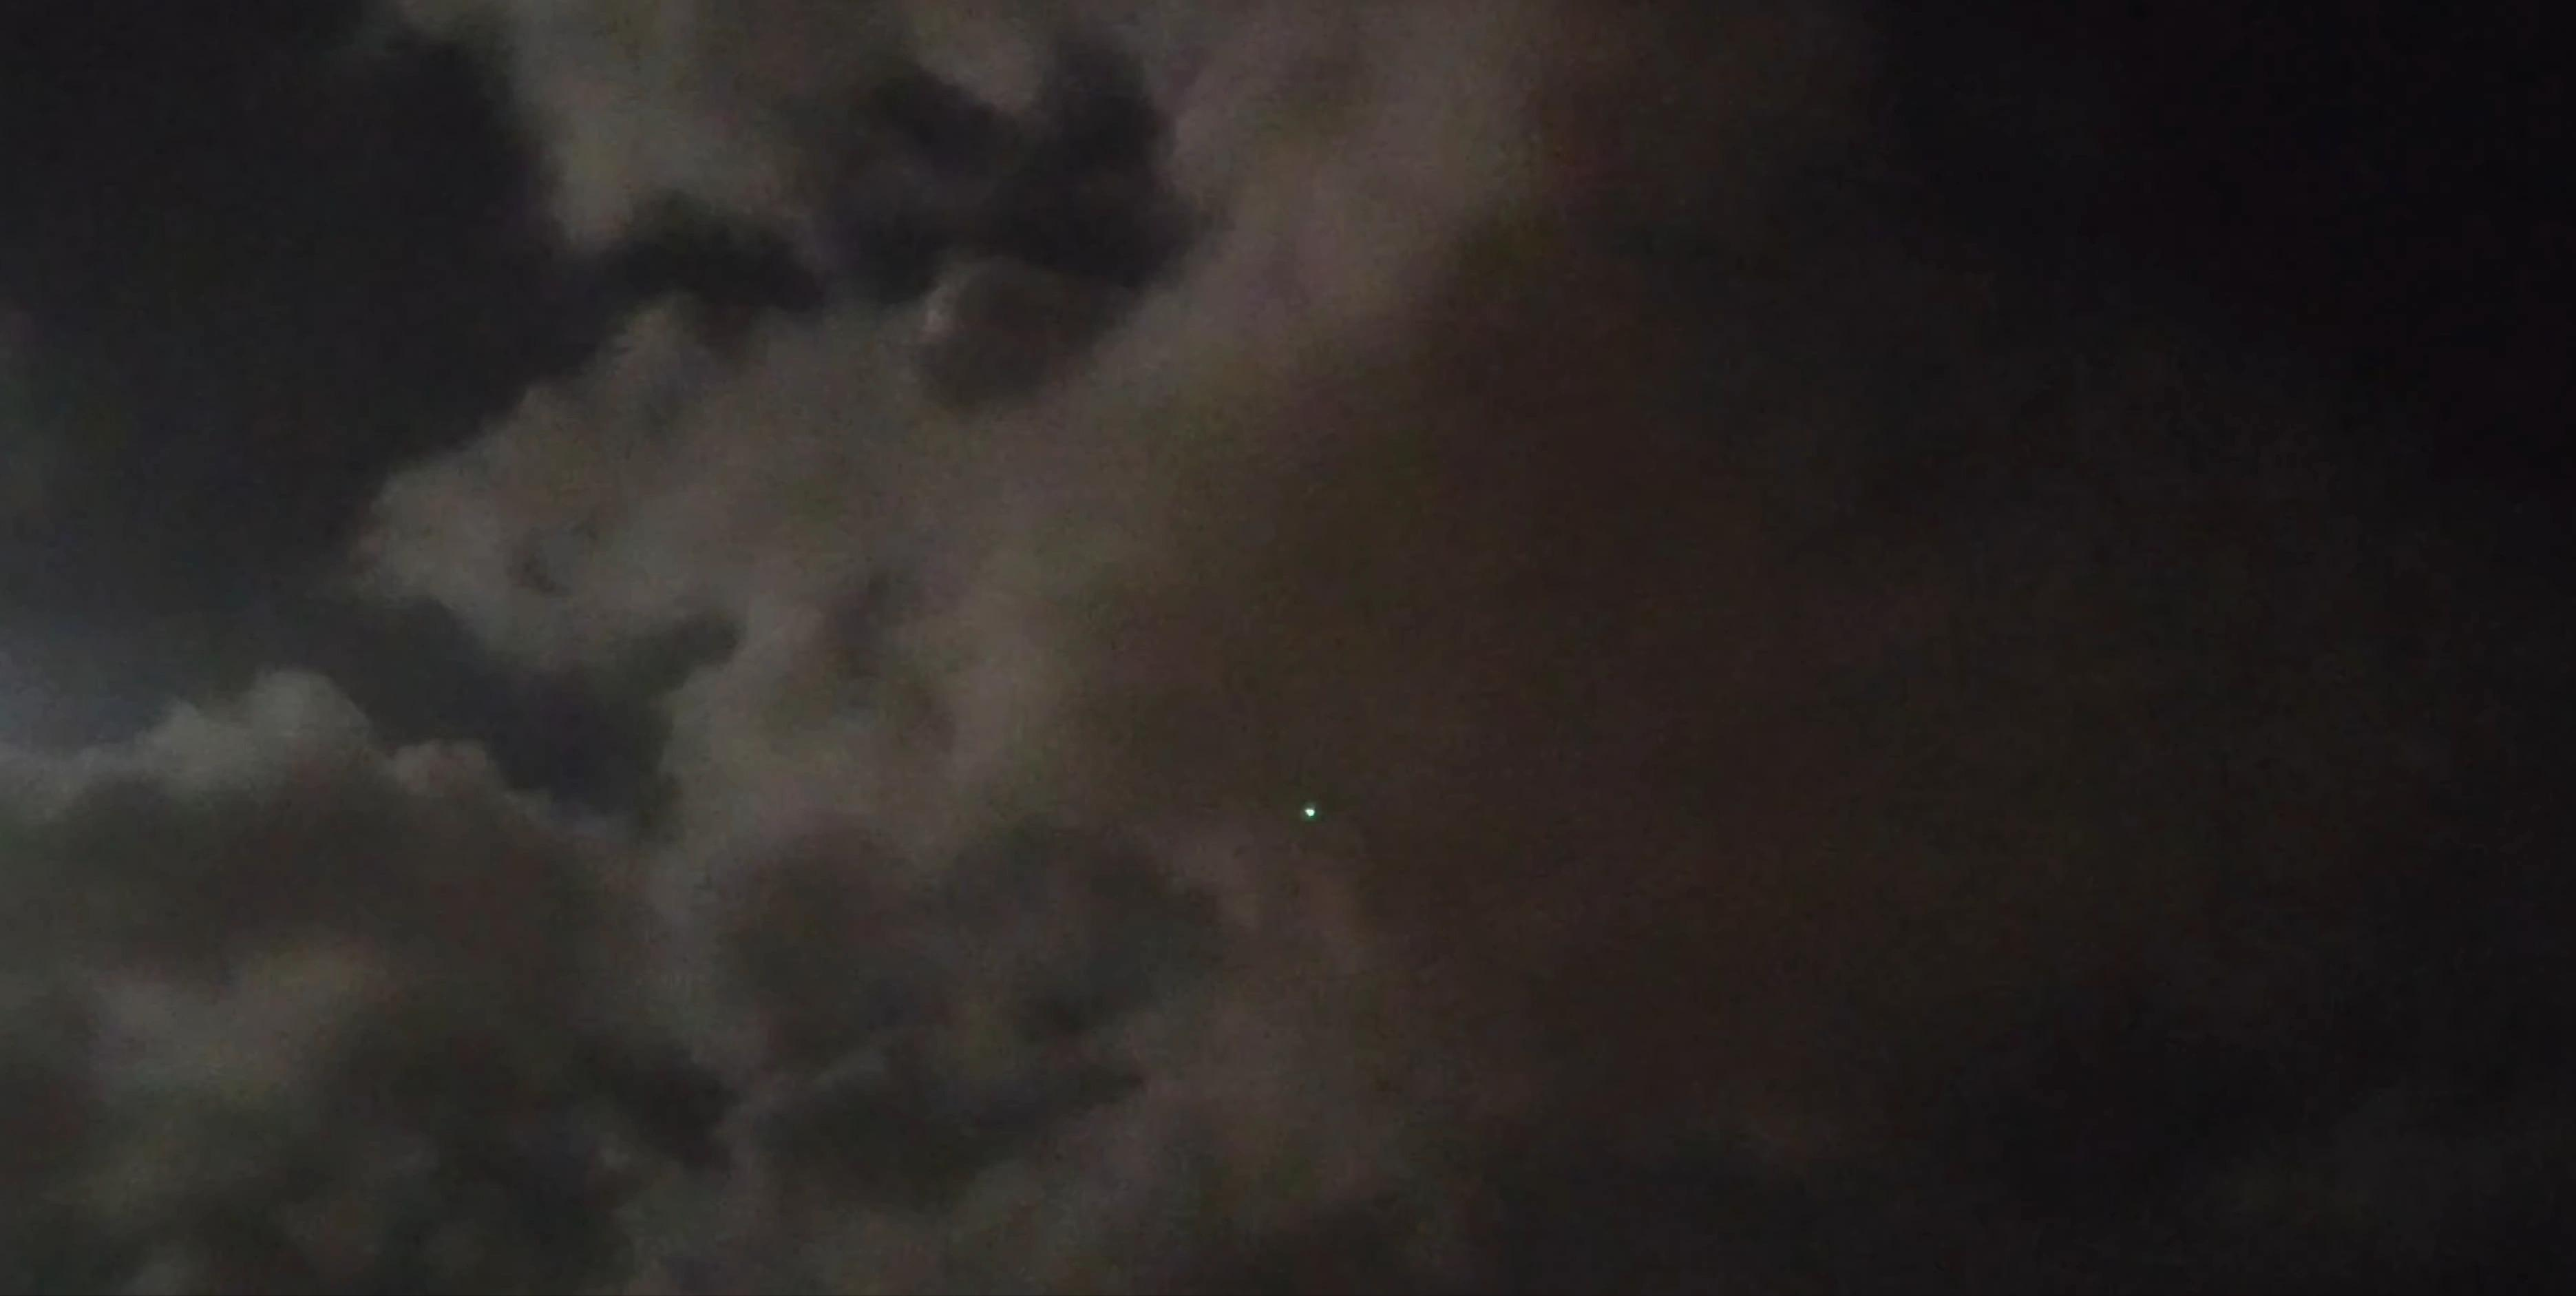Plane: (1292, 785, 1330, 836)
